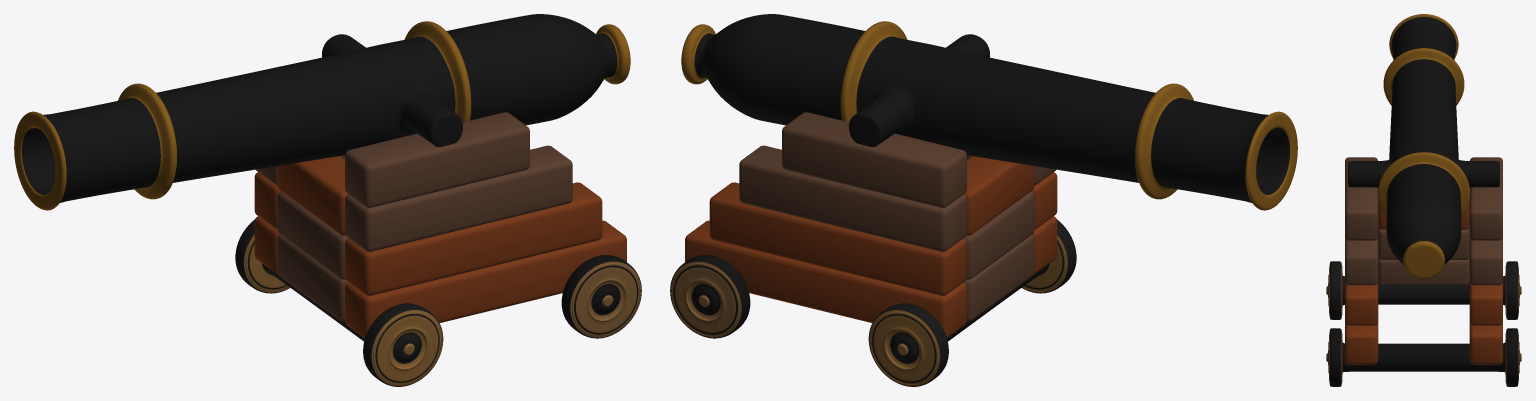
Rendered from CannonShort.fbx.
3 views of the same model, side by side, from view 1: azimuth 30°, elevation 25°; view 2: azimuth 150°, elevation 25°; view 3: azimuth 270°, elevation 25° (orthographic). The views are drawn at different scales.
Parts seen in each view (by area): view 1: Cylinder, Cube, Cylinder.001, Cylinder.002; view 2: Cylinder, Cube, Cylinder.001, Cylinder.002; view 3: Cylinder, Cube, Cylinder.002, Cylinder.001.
Part boxes in pixels (x1=…): Cylinder: x1=14, y1=14, x2=630, y2=210; Cube: x1=254, y1=112, x2=626, y2=337; Cylinder.001: x1=235, y1=219, x2=443, y2=386; Cylinder.002: x1=561, y1=255, x2=641, y2=338; Cylinder: x1=681, y1=14, x2=1297, y2=210; Cube: x1=685, y1=112, x2=1057, y2=337; Cylinder.001: x1=868, y1=219, x2=1076, y2=386; Cylinder.002: x1=670, y1=255, x2=750, y2=338; Cylinder: x1=1348, y1=14, x2=1499, y2=278; Cube: x1=1345, y1=157, x2=1502, y2=364; Cylinder.002: x1=1326, y1=328, x2=1521, y2=386; Cylinder.001: x1=1326, y1=261, x2=1521, y2=319.
Size of the model in its own units: 556 by 270 by 234.
